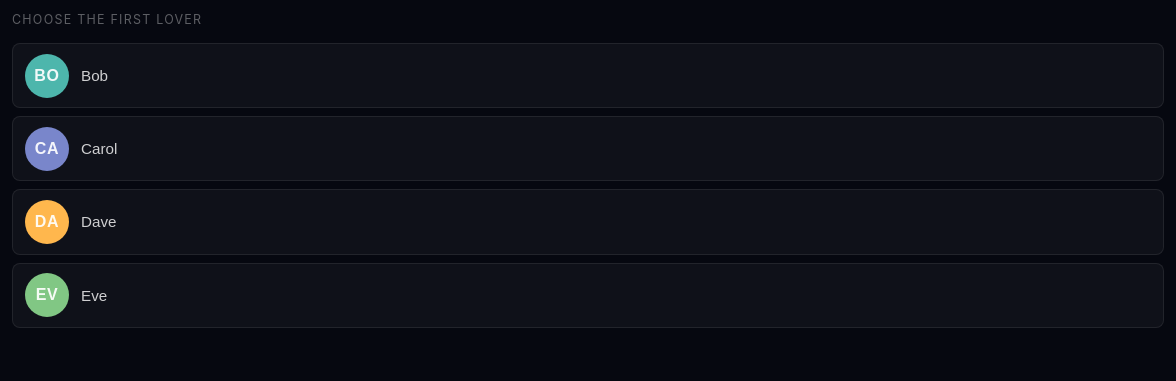
CupidUI › confirm "Link them" button hidden until both lovers selected
Expected: the button "Link them" is not shown
Click the text "Bob": {"x": 94, "y": 76} [81,67,108,84]
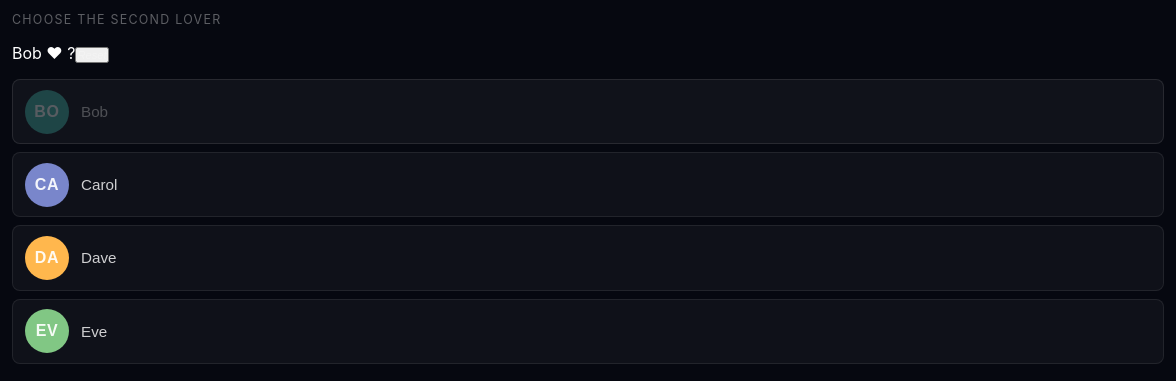
Expected: the button "Link them" is not shown
Click the text "Carol": {"x": 99, "y": 185} [81,176,117,193]
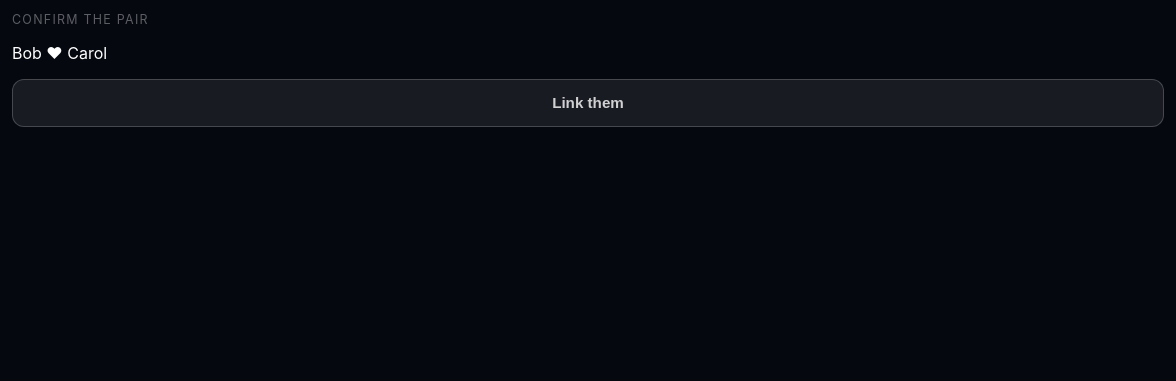
Expected: the button "Link them" is shown, [12,79,1164,127]
